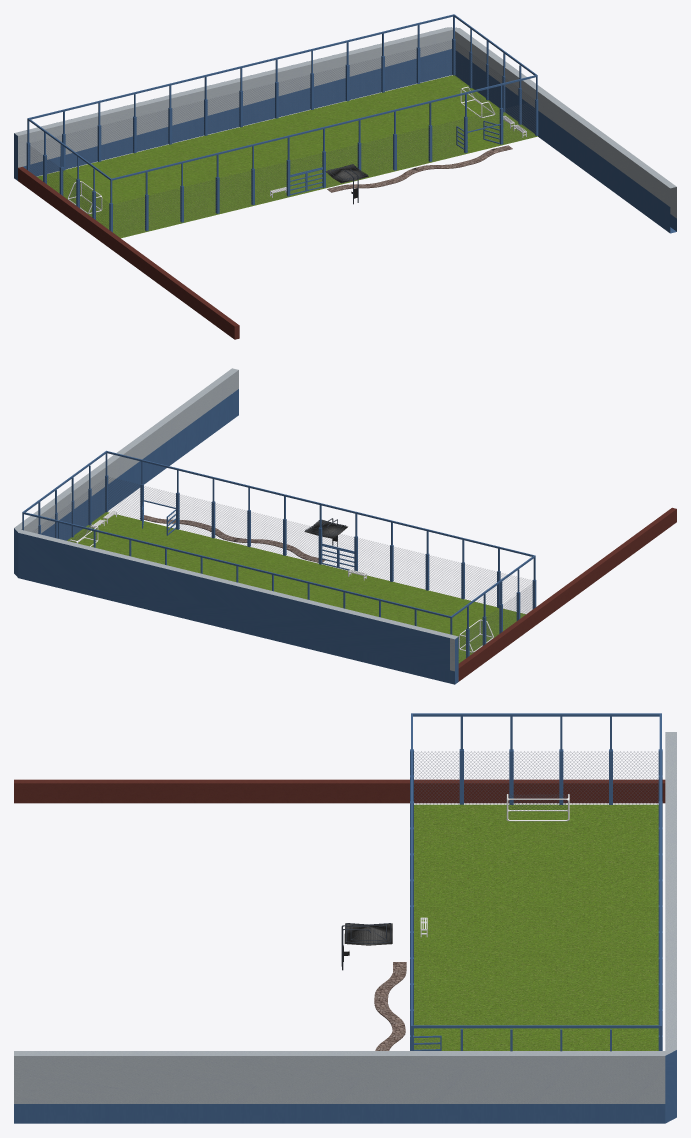
Rendered from cancha-futOP.glb.
3 renders of one model, top to bottom at view 1: azimuth 30°, elevation 25°; view 2: azimuth 150°, elevation 25°; view 3: azimuth 270°, elevation 25°, orthographic. The views are drawn at different scales.
Parts seen in each view (by area): view 1: ParedCanchas, Tierrita, Red, Caminito, Bebedero.001; view 2: ParedCanchas, Tierrita, Red, Caminito, Bebedero.001; view 3: ParedCanchas, Tierrita, Red, Caminito, Bebedero.001.
Part boxes in pixels (left/top/right/bottom): ParedCanchas: left=14, top=14, right=676, bottom=339; Tierrita: left=37, top=75, right=537, bottom=238; Red: left=29, top=41, right=535, bottom=236; Caminito: left=327, top=145, right=512, bottom=192; Bebedero.001: left=325, top=164, right=368, bottom=204; ParedCanchas: left=14, top=368, right=676, bottom=684; Tierrita: left=67, top=512, right=525, bottom=663; Red: left=34, top=477, right=534, bottom=661; Caminito: left=140, top=515, right=324, bottom=562; Bebedero.001: left=304, top=518, right=347, bottom=546; ParedCanchas: left=14, top=713, right=676, bottom=1123; Tierrita: left=414, top=804, right=658, bottom=1050; Red: left=414, top=751, right=658, bottom=1049; Caminito: left=374, top=962, right=406, bottom=1050; Bebedero.001: left=341, top=923, right=392, bottom=970.
Bounding box in the file's own units: 0.5194 × 0.0691 × 0.4491.
11 materials, 9 textured.
